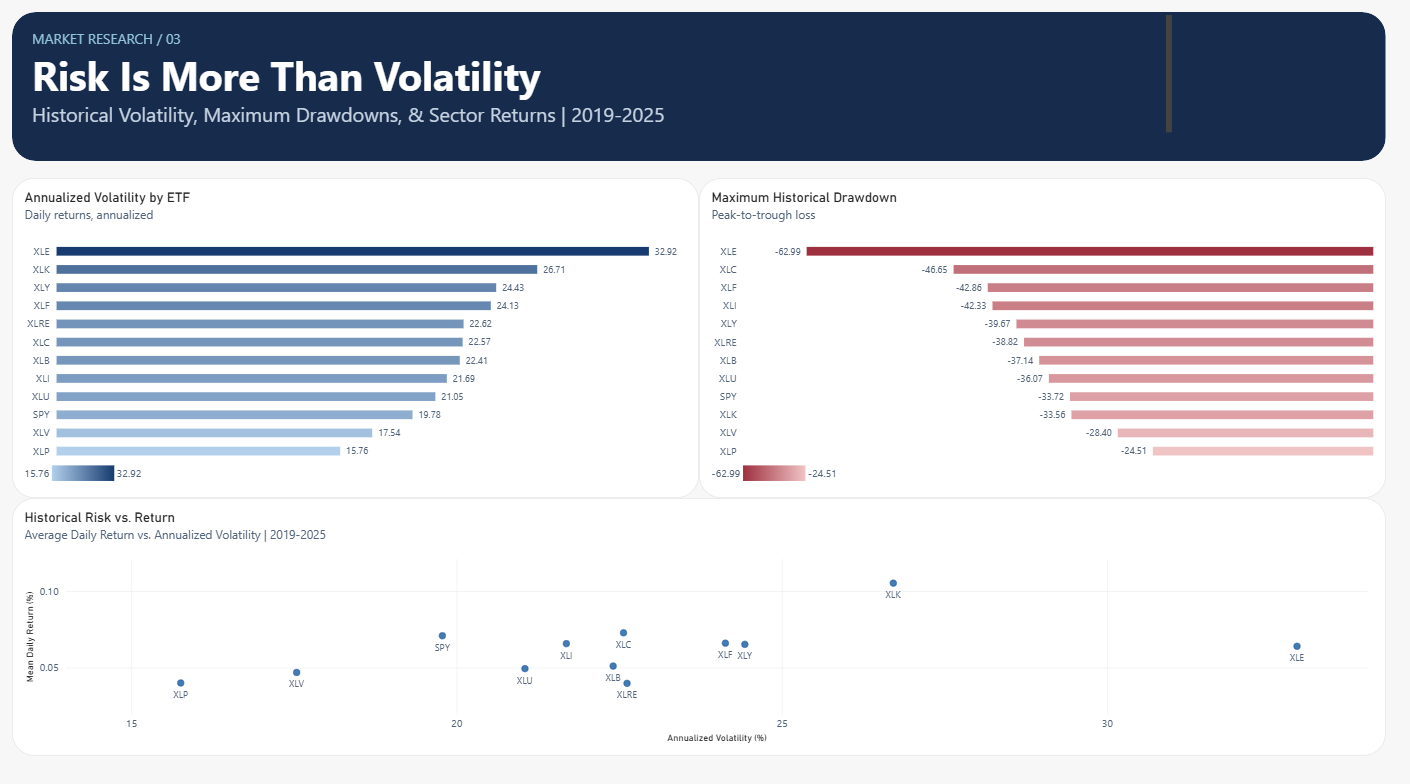

What the dashboard file says about the page in this screenshot:
{"tool":"powerbi","page":{"name":"Risk & Volatility","canvas":[1920,1080],"ordinal":2},"visuals":[{"type":"shape","box":[23.3,25.9,1850,200.6],"z":0,"group":"g1"},{"type":"clusteredBarChart","title":"Annualized Volatility by ETF","fields":{"Category":["sector_risk_summary.ticker"],"Y":["Sum(sector_risk_summary.annualized_volatility_pct)"]},"box":[22.9,249.1,925.1,430.9],"z":0},{"type":"textbox","box":[49.8,29.6,1535.2,164.3],"z":1000,"group":"g1"},{"type":"clusteredBarChart","title":"Maximum Historical Drawdown","fields":{"Category":["sector_risk_summary.ticker"],"Y":["Sum(sector_risk_summary.maximum_drawdown_pct)"]},"box":[948,249.1,925.1,430.9],"z":1000},{"type":"scatterChart","title":"Historical Risk vs. Return","fields":{"Category":["sector_risk_summary.ticker"],"X":["Sum(sector_risk_summary.annualized_volatility_pct)"],"Y":["Sum(sector_risk_summary.avg_daily_return_pct)"]},"box":[22.9,680,1850.3,347.4],"z":2000},{"type":"group","id":"g1","title":"Group 1","box":[23.3,25.9,1850,200.6],"z":2001}]}

Visuals, with their boxes in screenshot pixels (x1, y1, x2, y2), scaled from the page's 1920x1080 canvas onto the 1410x784 screenshot:
shape: [17, 19, 1376, 164]
"Annualized Volatility by ETF" clusteredBarChart: [17, 181, 696, 494]
textbox: [37, 21, 1164, 141]
"Maximum Historical Drawdown" clusteredBarChart: [696, 181, 1376, 494]
"Historical Risk vs. Return" scatterChart: [17, 494, 1376, 746]
"Group 1" group: [17, 19, 1376, 164]
